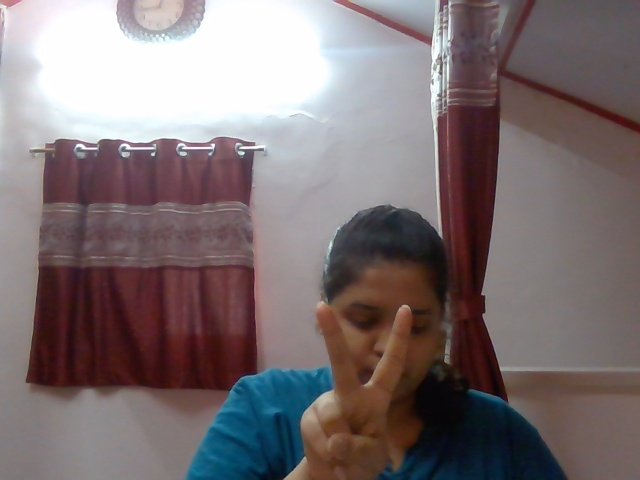v: (275, 293, 417, 470)
